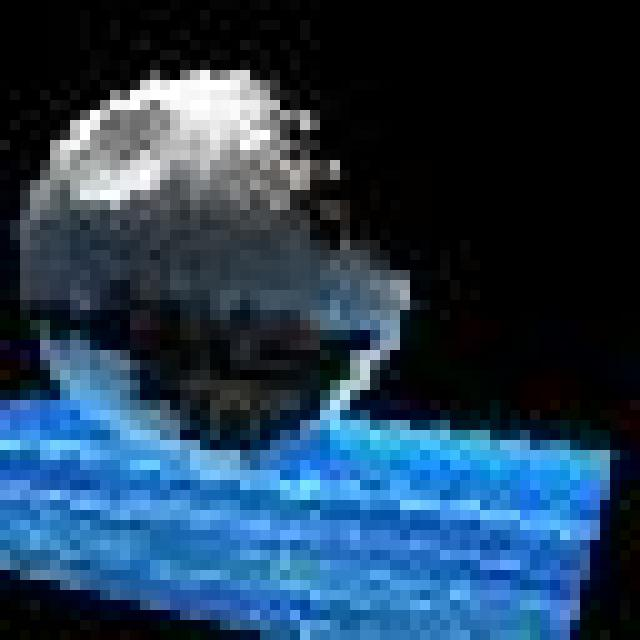Death Star: (21, 71, 430, 449)
